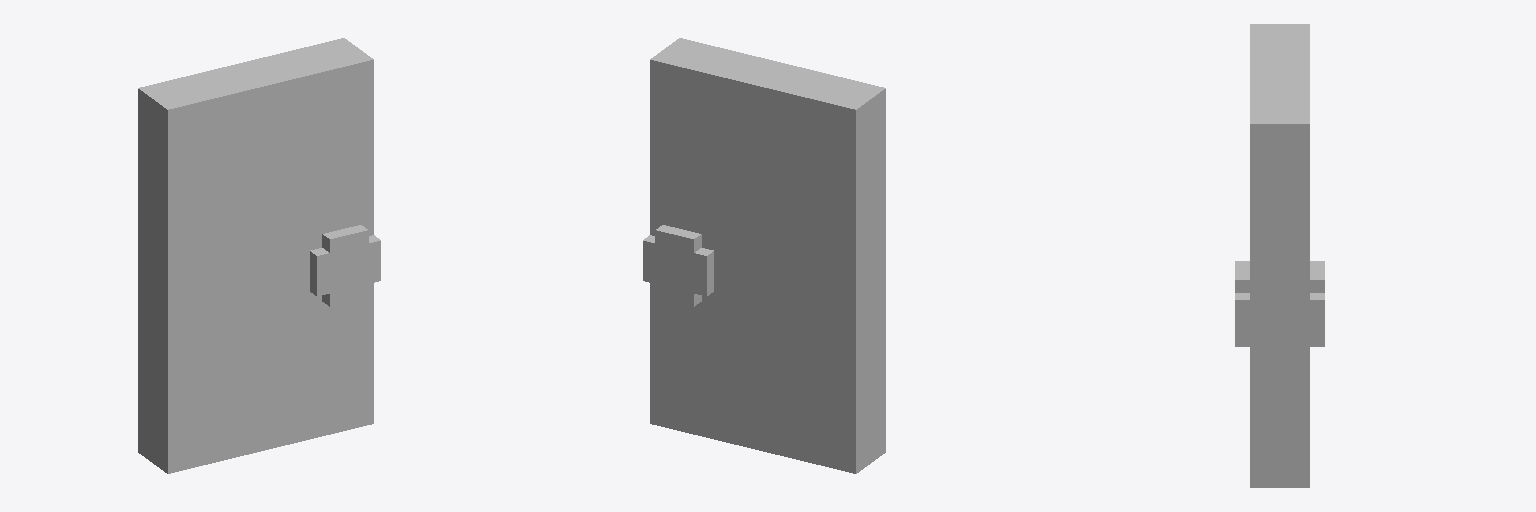
File: Door.obj
3 views of the same model, side by side, from view 1: azimuth 30°, elevation 25°; view 2: azimuth 150°, elevation 25°; view 3: azimuth 270°, elevation 25° (orthographic).
Size of the model in its own units: 16 by 27 by 6.